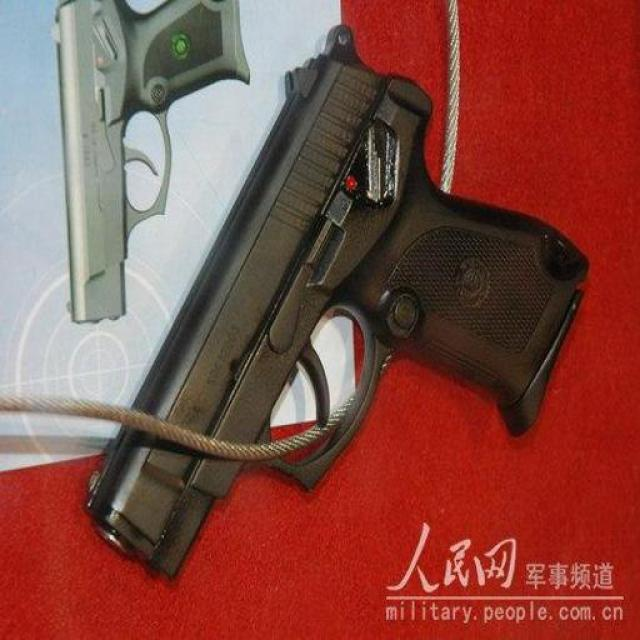pistol: (81, 20, 589, 581), (50, 1, 251, 323)
